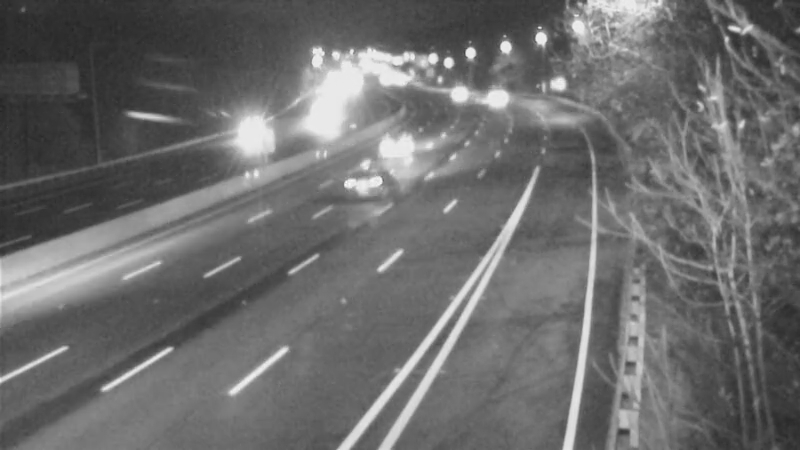vehicle: (331, 149, 411, 229), (477, 72, 527, 122), (425, 65, 475, 115), (367, 122, 417, 172), (223, 111, 273, 161), (293, 98, 343, 148)
